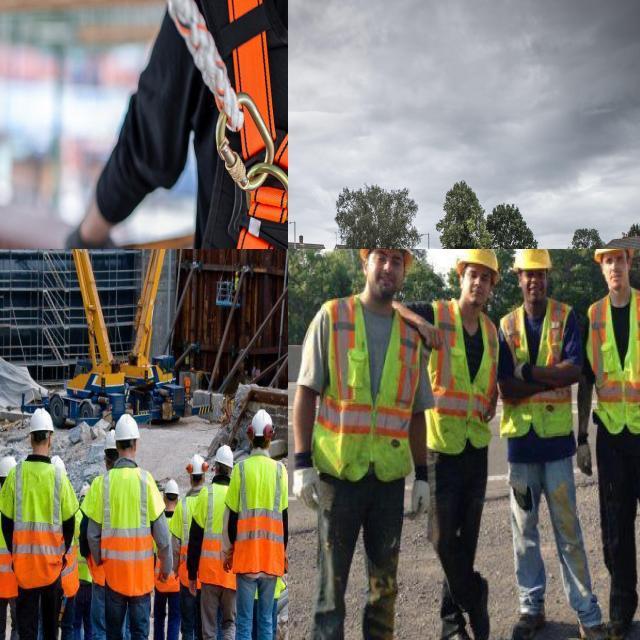Harness: (193, 0, 288, 249)
face_nomask: (360, 249, 408, 298), (462, 261, 491, 312), (597, 249, 632, 288), (518, 267, 547, 302)
hand_glove: (404, 476, 437, 528), (288, 450, 316, 509), (573, 436, 595, 477)
head_helmet: (515, 249, 554, 272), (459, 249, 499, 271), (115, 412, 141, 444), (249, 408, 274, 438), (28, 408, 54, 435), (187, 455, 210, 479), (213, 444, 234, 470), (0, 455, 17, 478), (163, 479, 179, 497), (104, 430, 116, 449), (50, 456, 66, 470)
person: (315, 249, 415, 640), (506, 249, 588, 640), (434, 249, 501, 640), (585, 249, 640, 640), (13, 408, 71, 640), (232, 411, 288, 640), (102, 415, 158, 640), (191, 444, 236, 640), (153, 479, 183, 640), (0, 456, 22, 640), (73, 483, 96, 640)
shoes: (465, 574, 496, 640), (600, 594, 637, 640), (507, 602, 545, 640), (574, 608, 610, 640), (435, 619, 481, 640)
vest: (326, 309, 417, 485), (505, 300, 578, 440), (429, 308, 501, 449), (98, 464, 158, 594), (226, 455, 288, 577), (6, 462, 67, 580), (591, 291, 640, 432), (197, 481, 235, 590), (176, 496, 201, 589), (0, 498, 18, 597)
